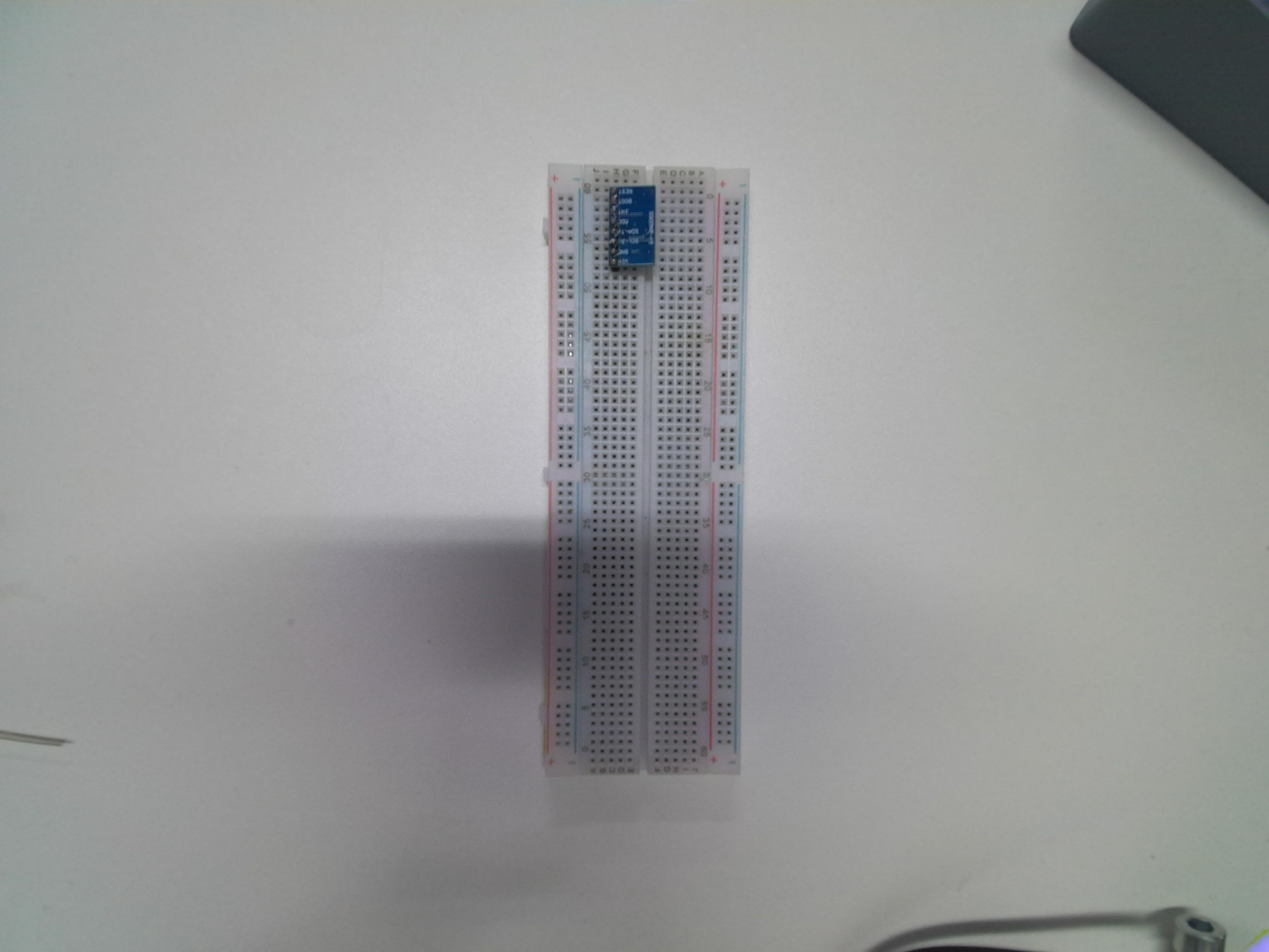base: (538, 163, 753, 781)
blue-board: (603, 183, 659, 273)
